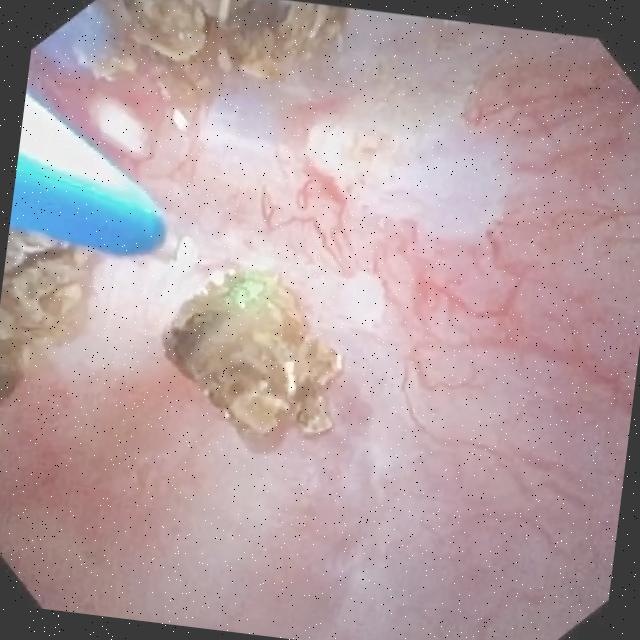laser-fibre: (148, 219, 193, 265)
laser_dot: (226, 271, 278, 308)
stone-new: (161, 270, 340, 434), (91, 0, 345, 94), (0, 229, 91, 398)
